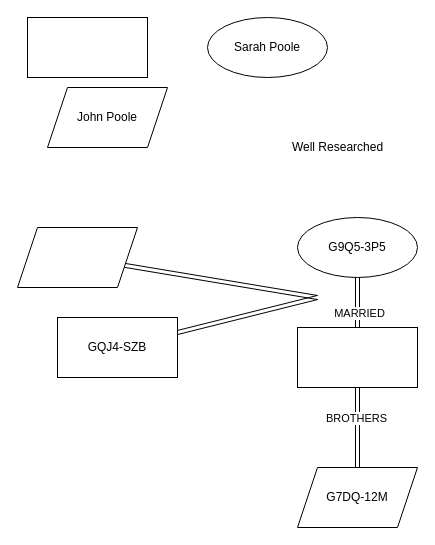
This 435x545 diagram has some shape labels left out. Here are the shapes that lost their labels. From the top down, the box of each, then its label:
(26, 16, 148, 78): Joseph Poole
(16, 226, 138, 288): LC2N-YCM
(296, 326, 418, 388): G9QG-2DY
